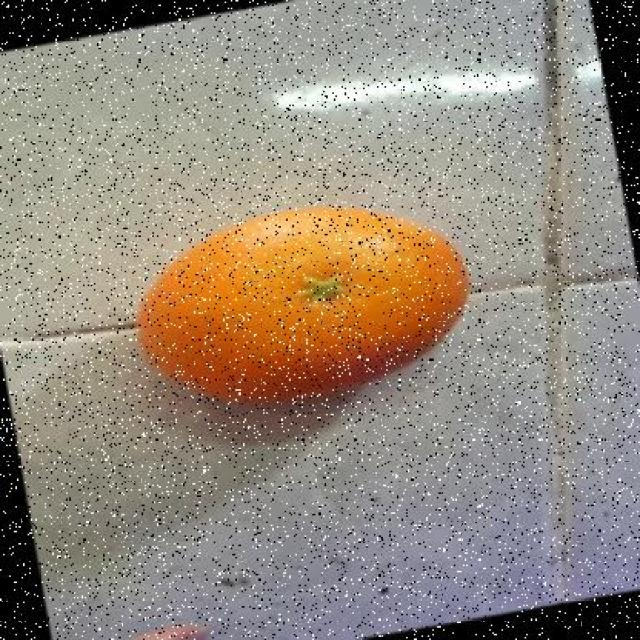Orange: (135, 203, 471, 408)
